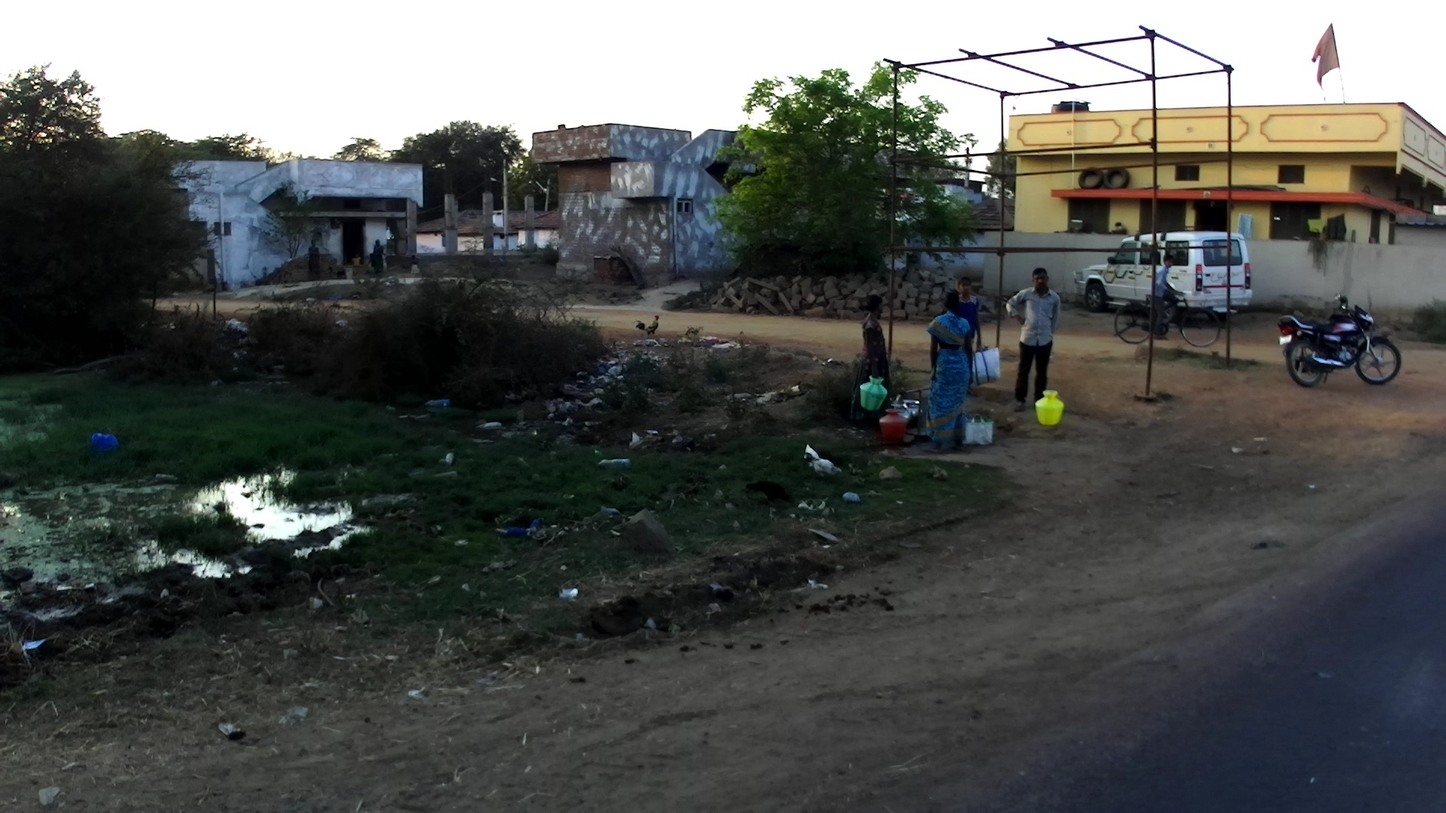animal: (634, 314, 663, 336)
bicycle: (1111, 289, 1222, 349)
car: (1072, 230, 1252, 325)
motorcycle: (1276, 292, 1402, 389)
person: (1005, 267, 1063, 414), (925, 289, 974, 455), (848, 294, 892, 431), (952, 275, 984, 395), (307, 239, 322, 283), (373, 239, 386, 279), (408, 254, 420, 279), (367, 252, 378, 273)
rider: (1153, 254, 1182, 340)
